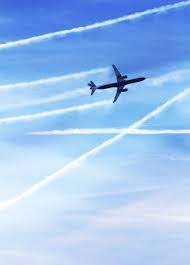plane: (88, 64, 146, 105)
